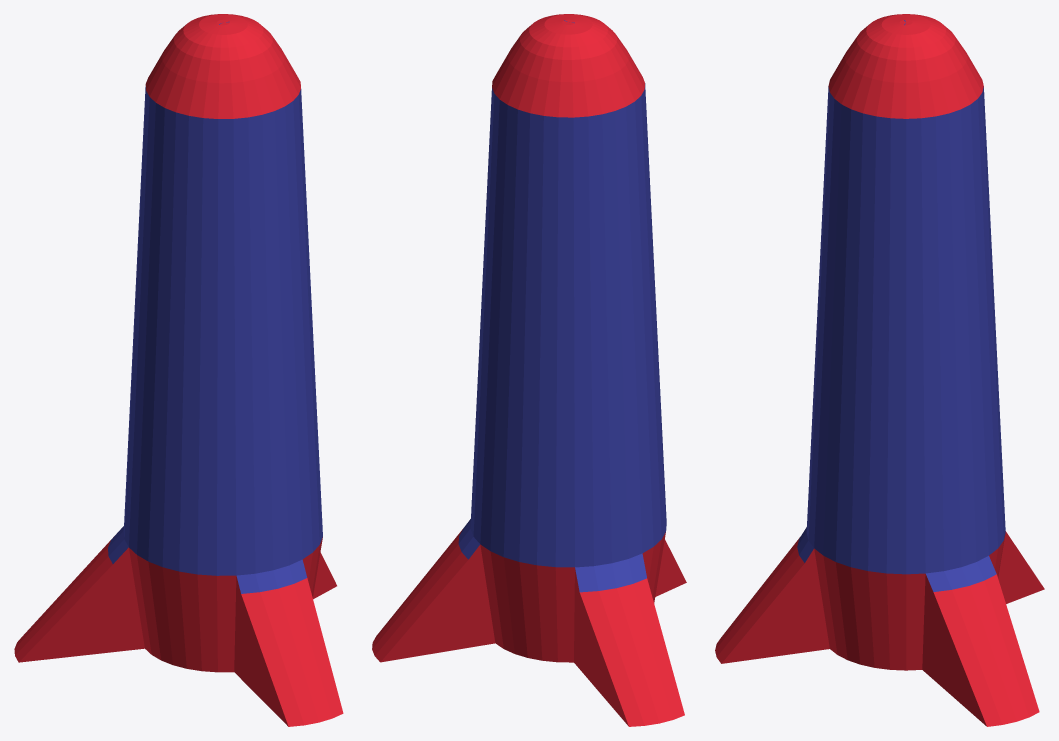
The model's file is Nuke.fbx.
The picture shows the model from 3 angles, left to right: view 1: azimuth 30°, elevation 25°; view 2: azimuth 150°, elevation 25°; view 3: azimuth 270°, elevation 25°; orthographic projection.
Parts seen in each view (by area): view 1: Cylinder; view 2: Cylinder; view 3: Cylinder.
Part boxes in pixels (bbox=[...]): Cylinder: bbox=[14, 14, 343, 726]; Cylinder: bbox=[372, 14, 686, 726]; Cylinder: bbox=[715, 14, 1044, 726].
Size of the model in its own units: 469 by 895 by 425.
